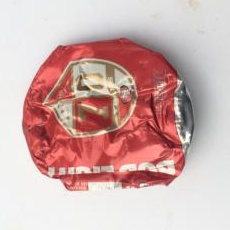Metal: (18, 36, 194, 195)
